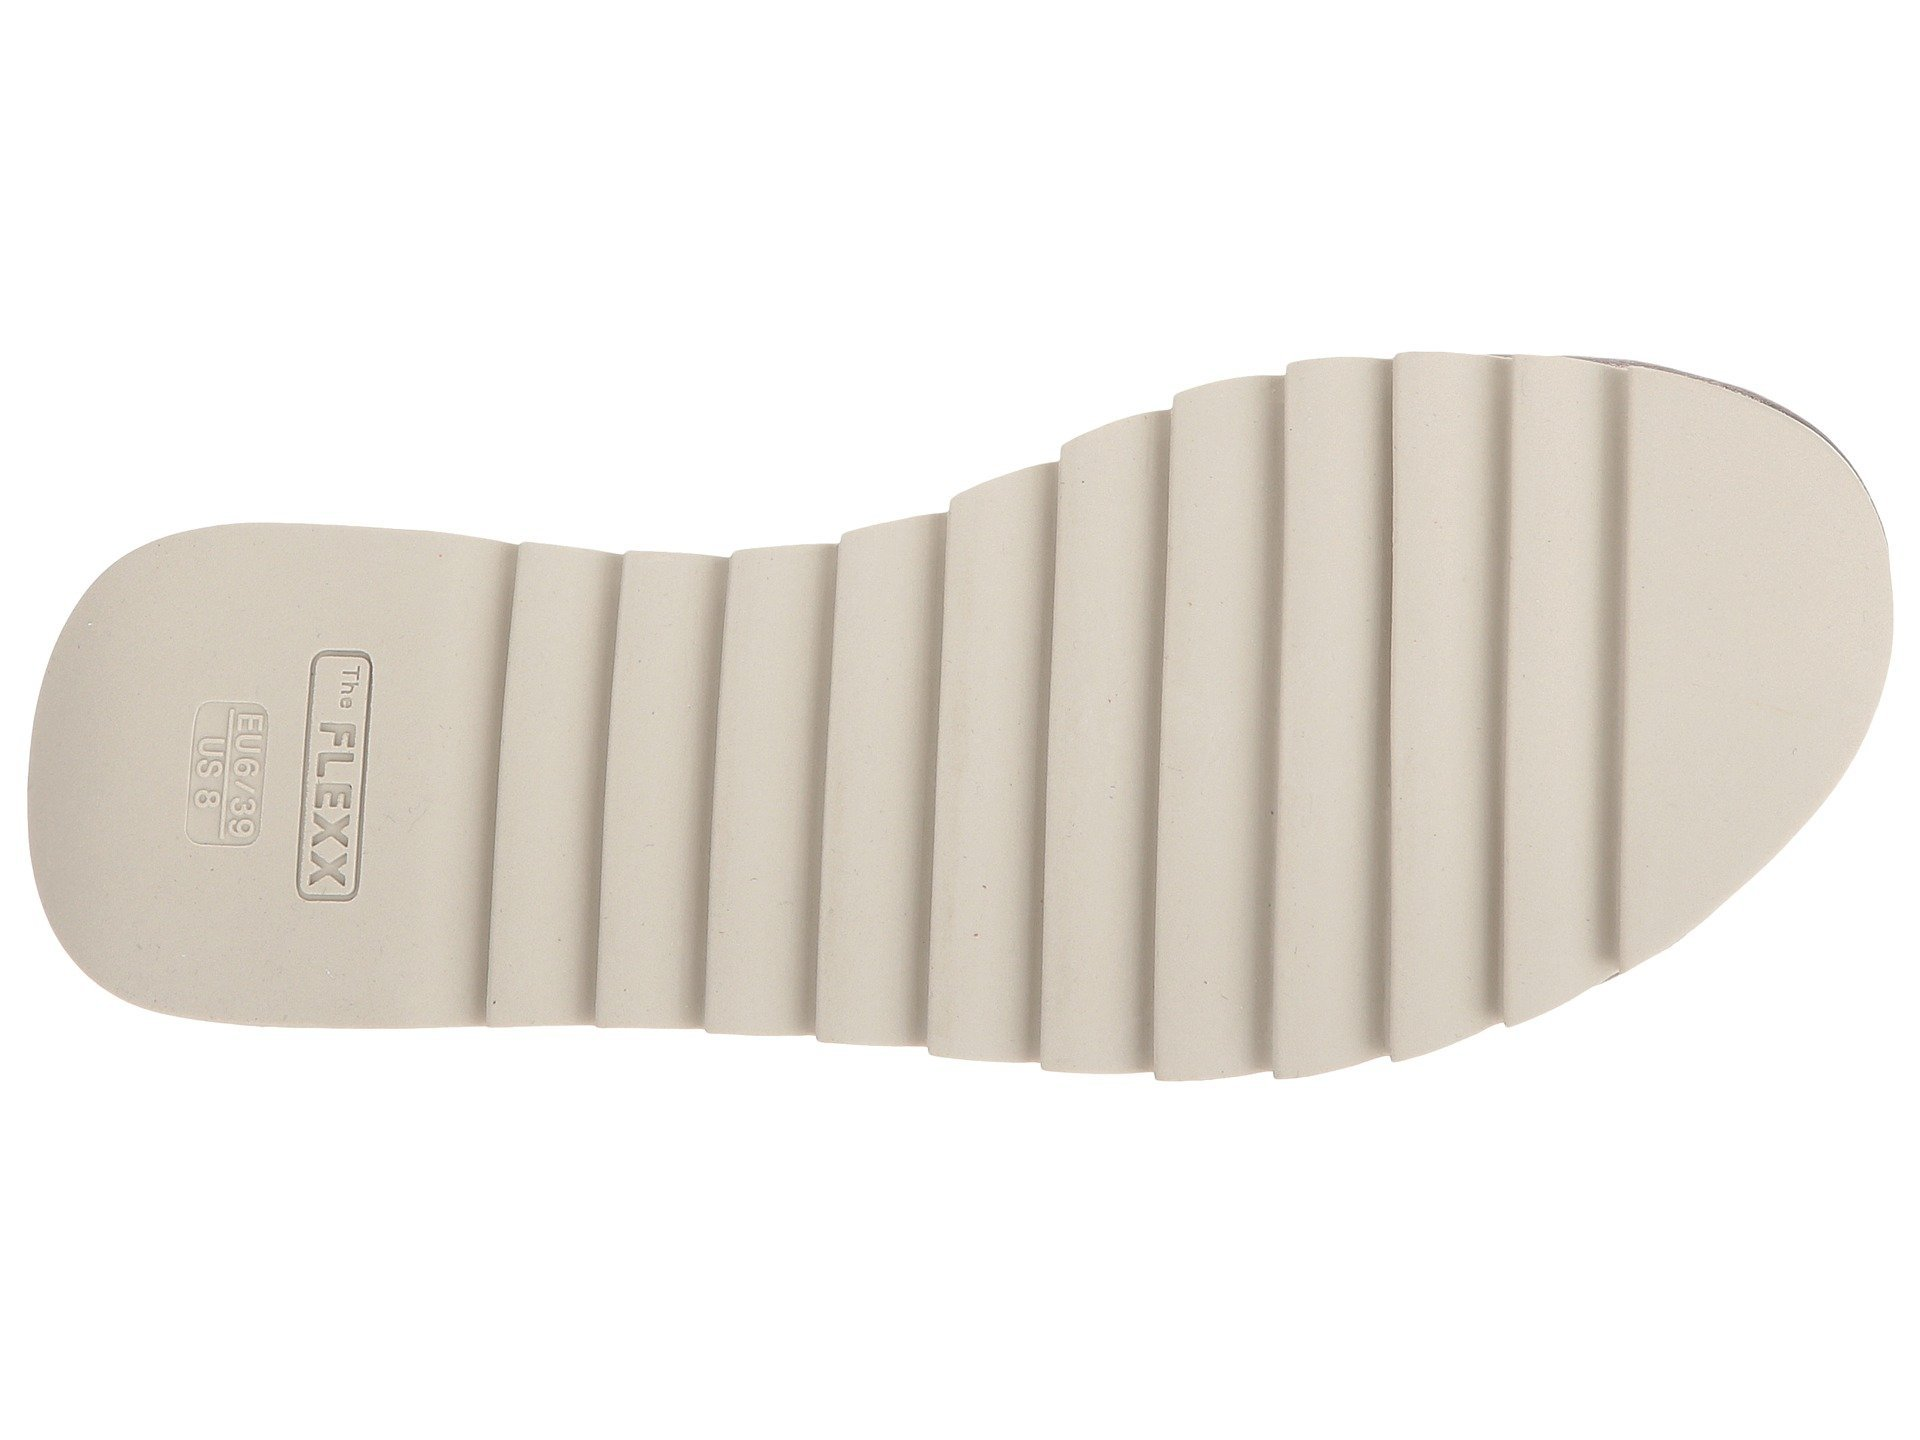quad: (129, 629, 440, 970)
text: (129, 629, 440, 970)
